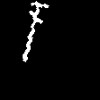double_crochet: (23, 1, 47, 61)
